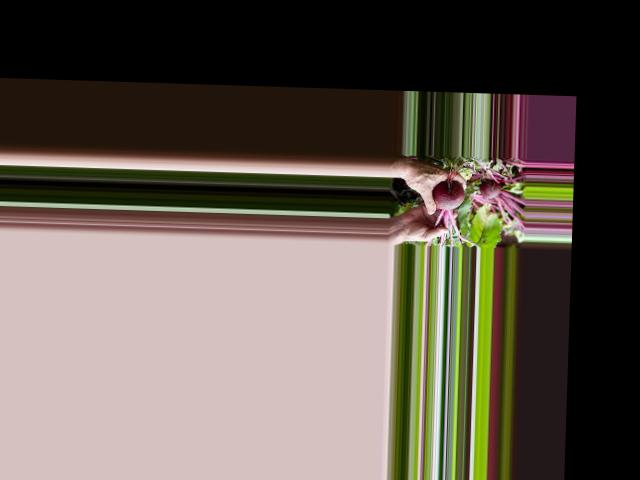beet: (429, 179, 483, 247)
